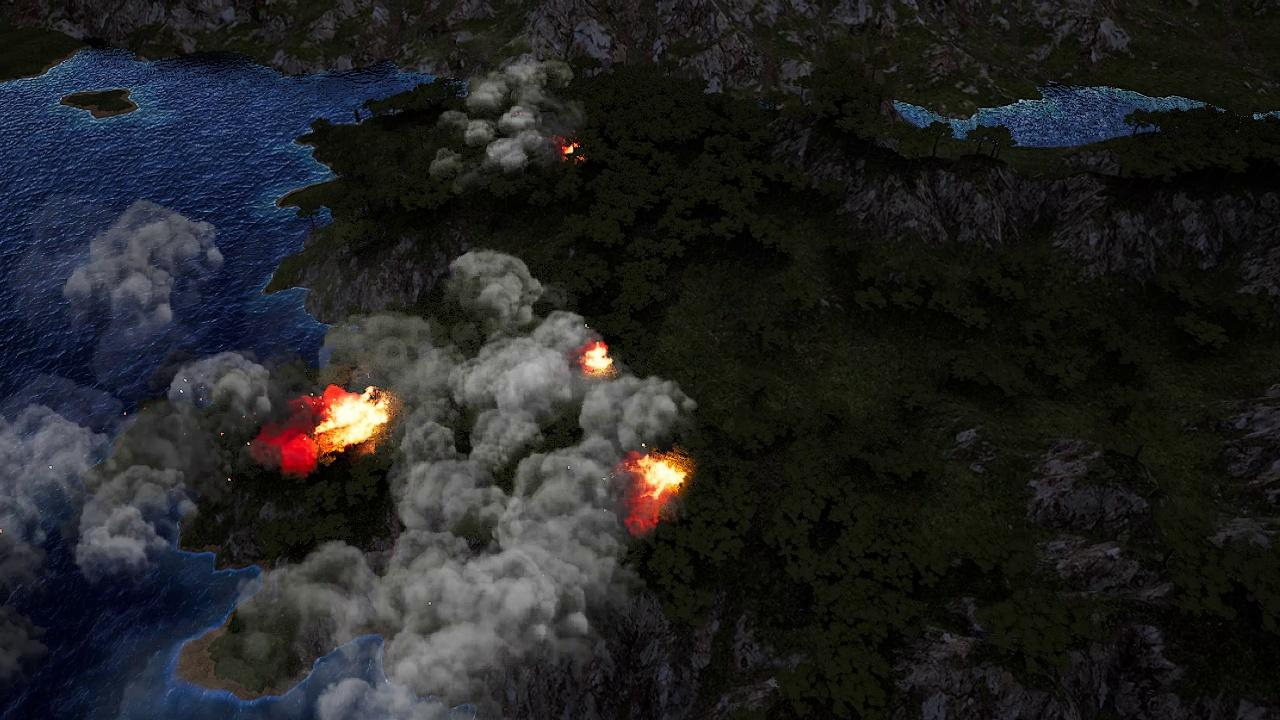fire: (315, 385, 391, 453), (627, 452, 687, 500), (580, 343, 611, 374), (561, 141, 585, 164)
smoke: (267, 248, 700, 720), (0, 289, 312, 717), (63, 199, 226, 347), (426, 56, 579, 191)
